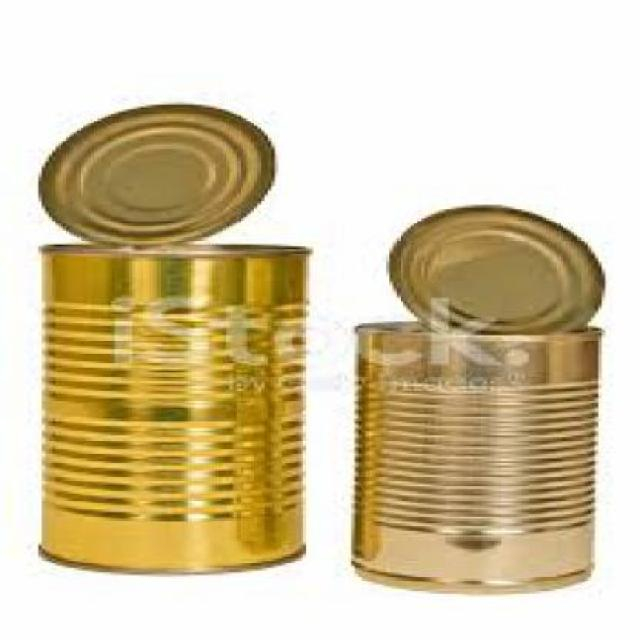METAL: (28, 242, 303, 570), (348, 318, 595, 591), (35, 100, 272, 242), (386, 202, 602, 333)
